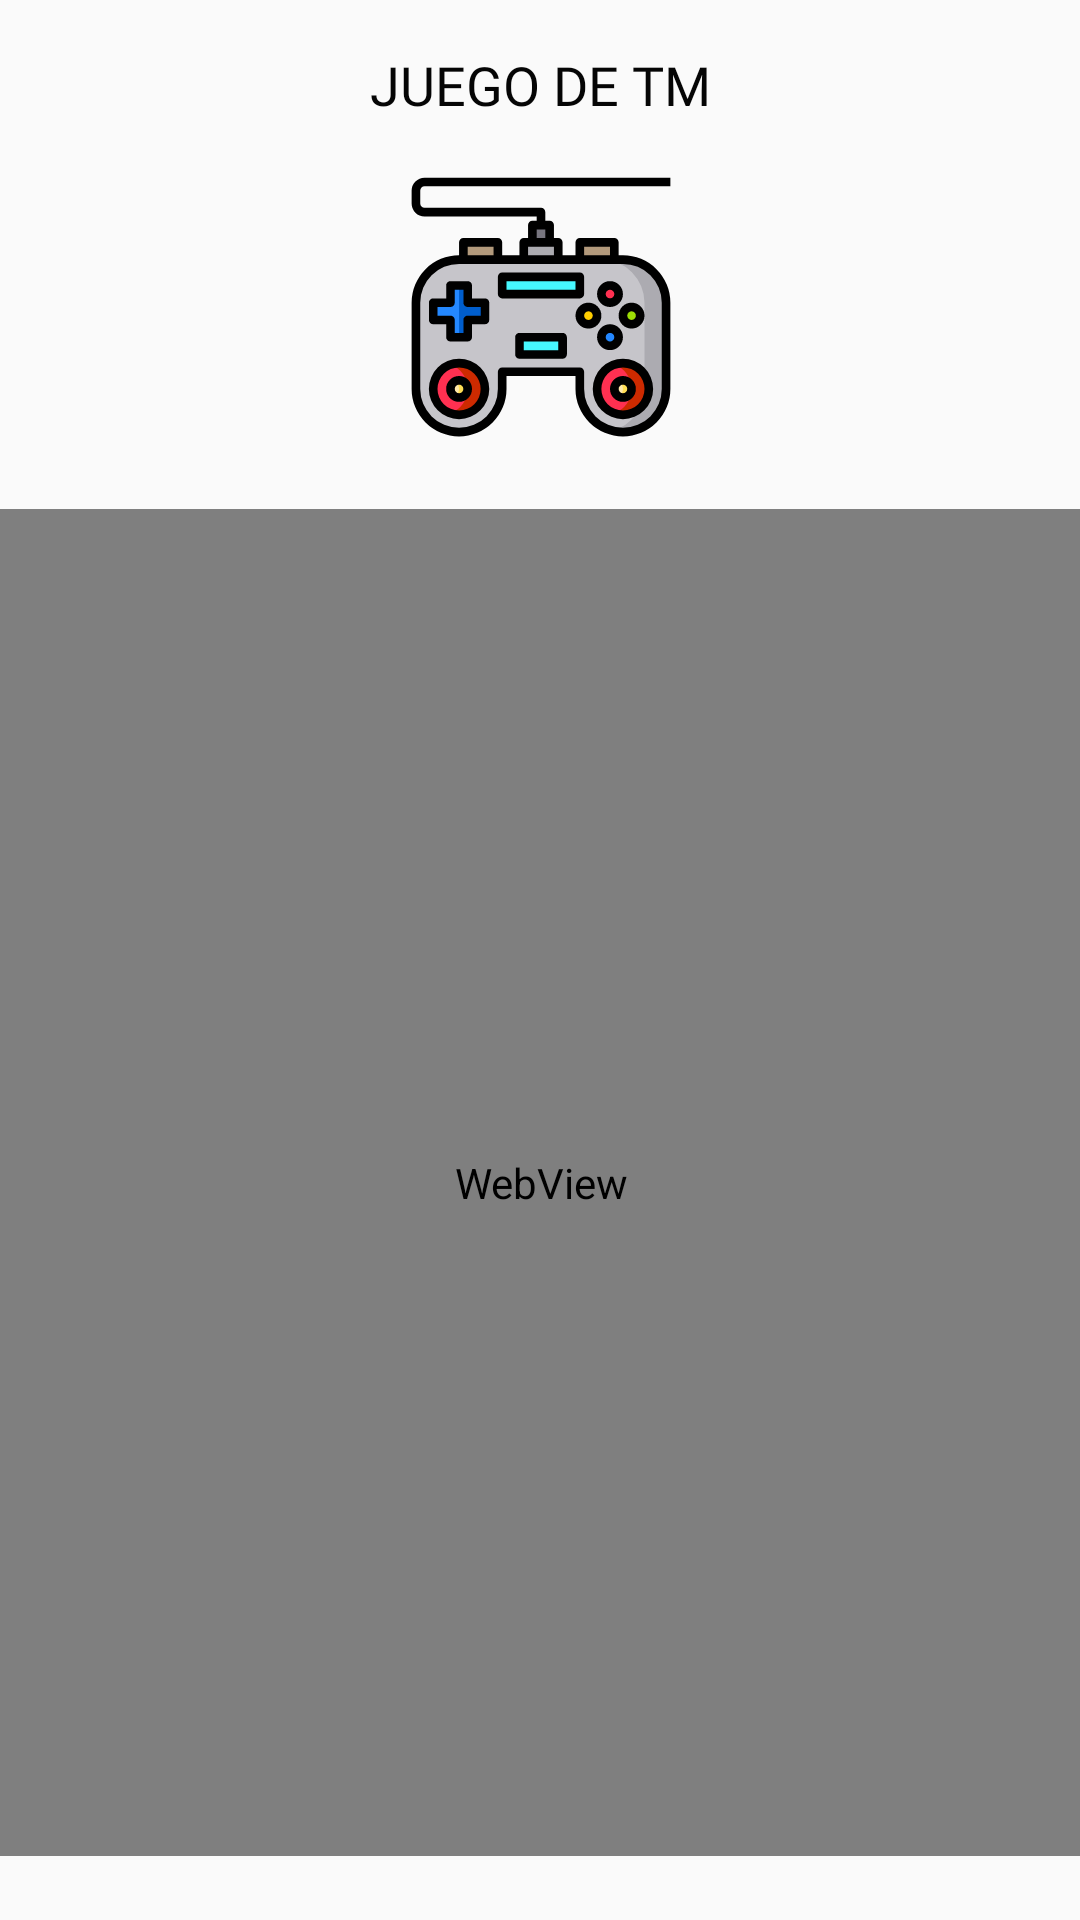

Screen size 1080px x 1920px. Icon name, then its center in pixels as point (x, y):
control de juego: point (541, 307)
